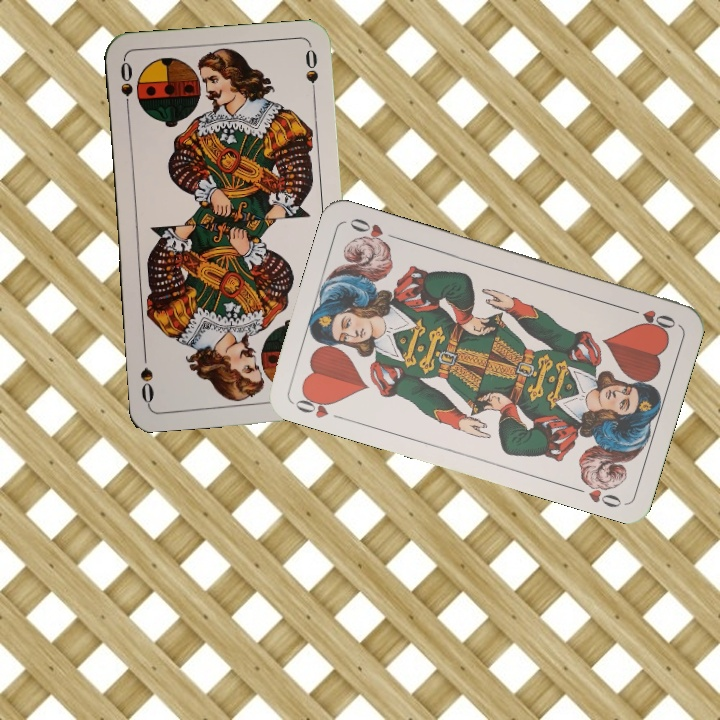HO: (621, 303, 679, 333), (290, 388, 339, 421)
SO: (116, 57, 136, 117)
